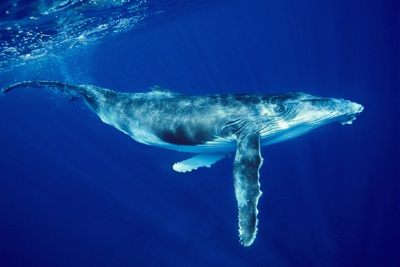humpback: (80, 94, 362, 151)
